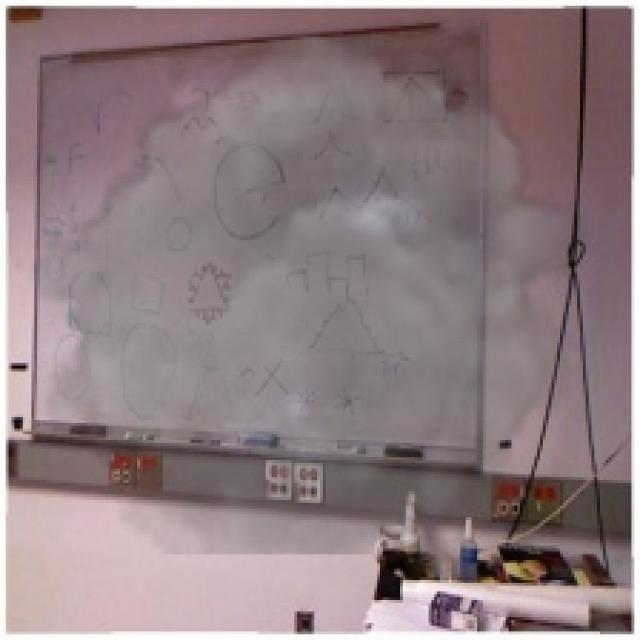smoke: (26, 34, 591, 554)
